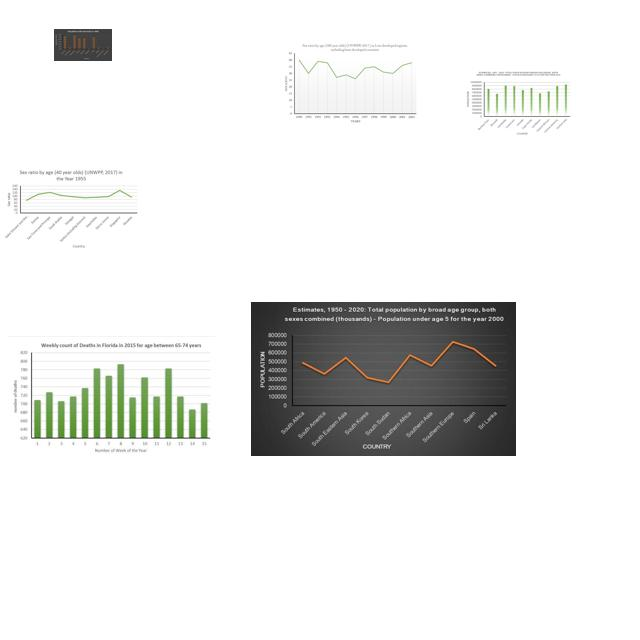Graph: (251, 302, 516, 456), (8, 336, 215, 459), (283, 41, 418, 124), (3, 167, 138, 249), (465, 70, 572, 135), (54, 29, 112, 61)
